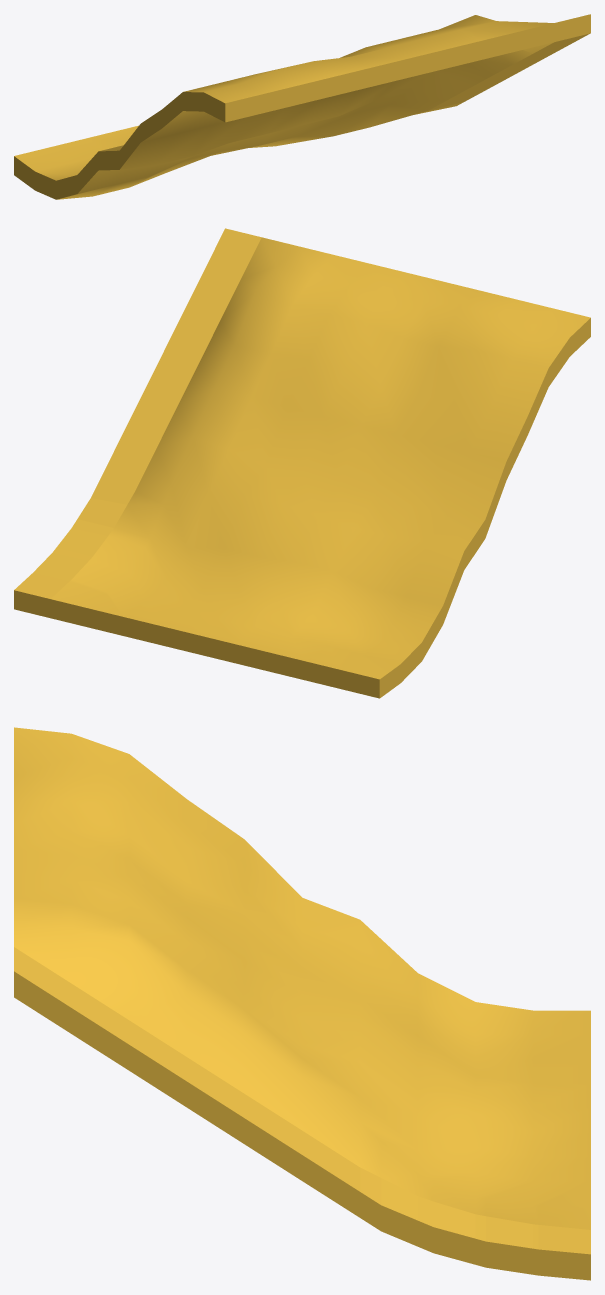
The model's file is Steil - Unten - Hügel x - a.fbx.
The picture shows the model from 3 angles, top to bottom: view 1: azimuth 30°, elevation 25°; view 2: azimuth 150°, elevation 25°; view 3: azimuth 270°, elevation 25°; orthographic projection. The views are drawn at different scales.
Parts seen in each view (by area): view 1: Steil - Unten - Hügel x - a; view 2: Steil - Unten - Hügel x - a; view 3: Steil - Unten - Hügel x - a.
Part boxes in pixels (x1,y1,x2,y2): Steil - Unten - Hügel x - a: (14, 14, 590, 199); Steil - Unten - Hügel x - a: (14, 228, 590, 698); Steil - Unten - Hügel x - a: (14, 727, 590, 1280).
Bounding box in the file's own units: 394 × 233 × 394.
